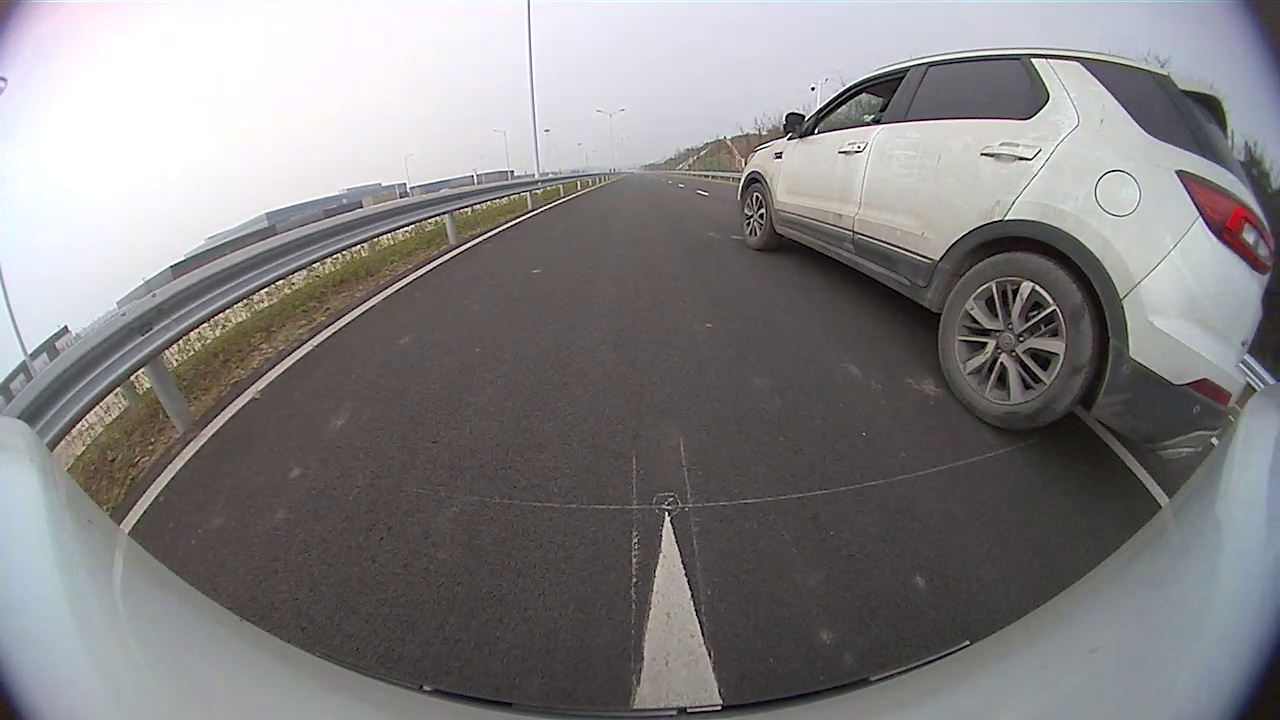car: (736, 48, 1269, 432)
front: (736, 183, 774, 251)
rear: (935, 249, 1100, 433)
